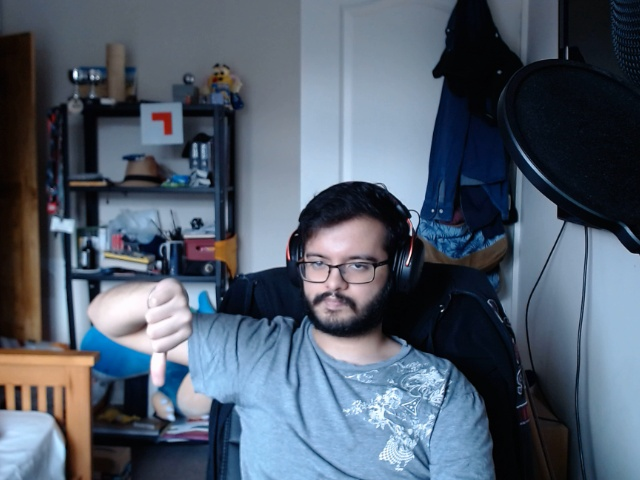Thumbs down: (140, 268, 201, 395)
